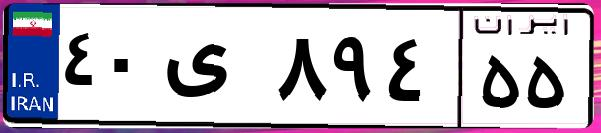0: (110, 28, 158, 98)
4: (385, 28, 445, 110), (57, 26, 110, 100)
5: (475, 38, 525, 113), (525, 38, 570, 115)
8: (270, 28, 330, 110)
9: (330, 28, 385, 110)
ی: (158, 20, 270, 120)
